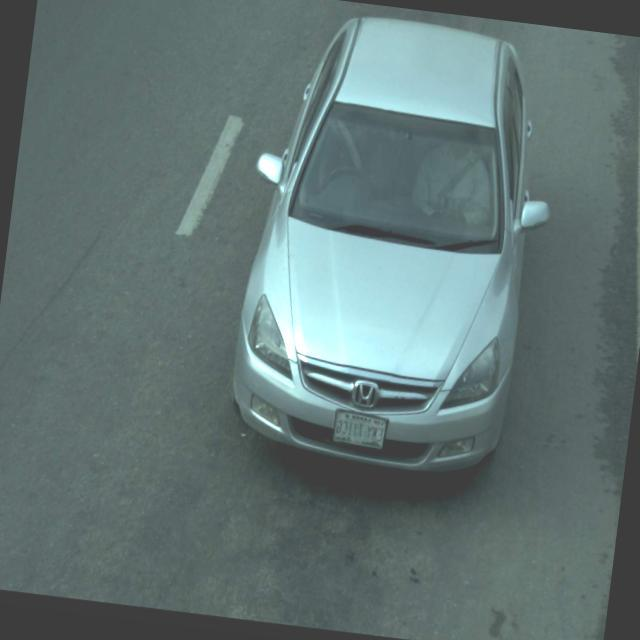windshield: (285, 96, 511, 260)
